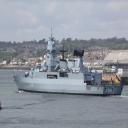Fragata: (13, 27, 126, 98)
